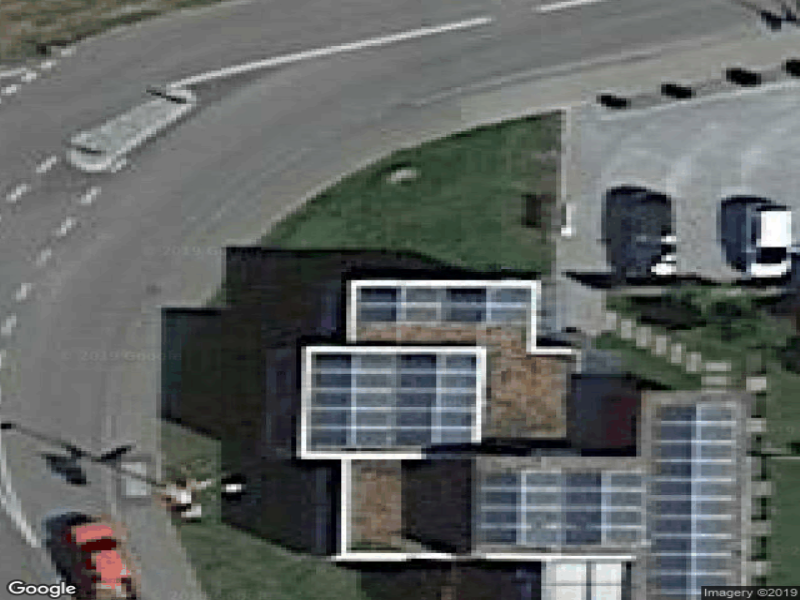pv: (306, 281, 736, 600)
